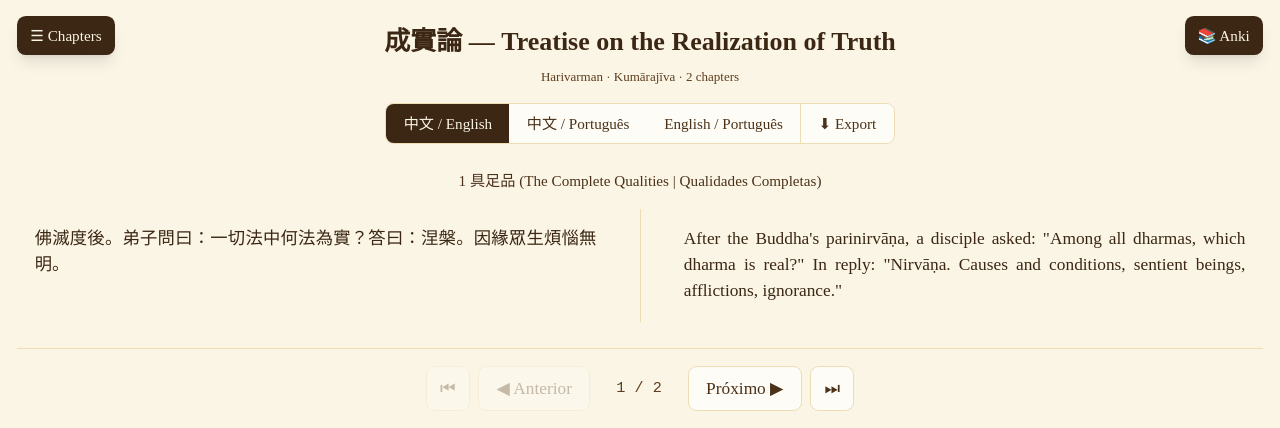
it: App › shows hanzi tooltip on character click
Click the text with class "cursor-pointer" showing "佛". click: (44, 239)
box: [35, 229, 52, 248]
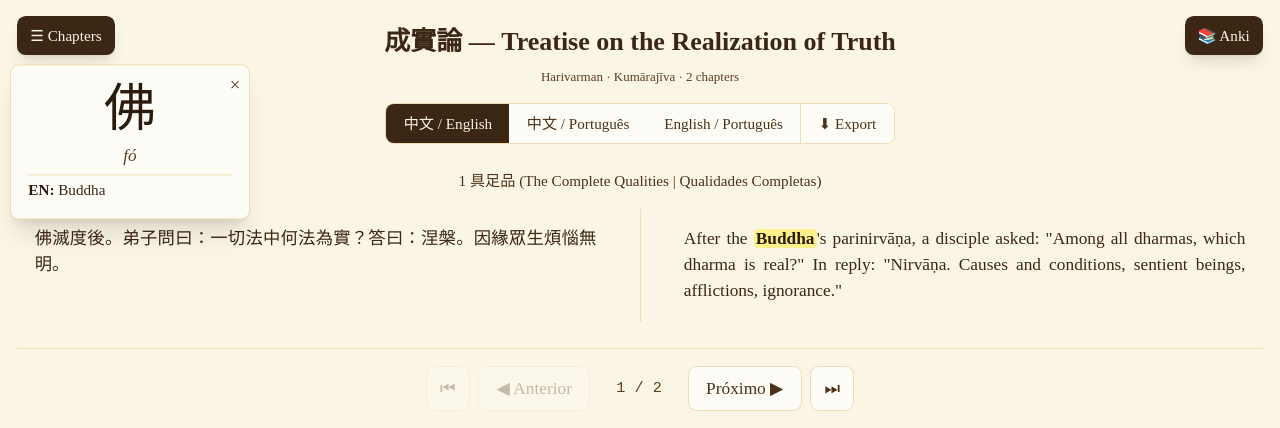
Expected: the element with class "z-50" is shown, [10, 65, 250, 219]
